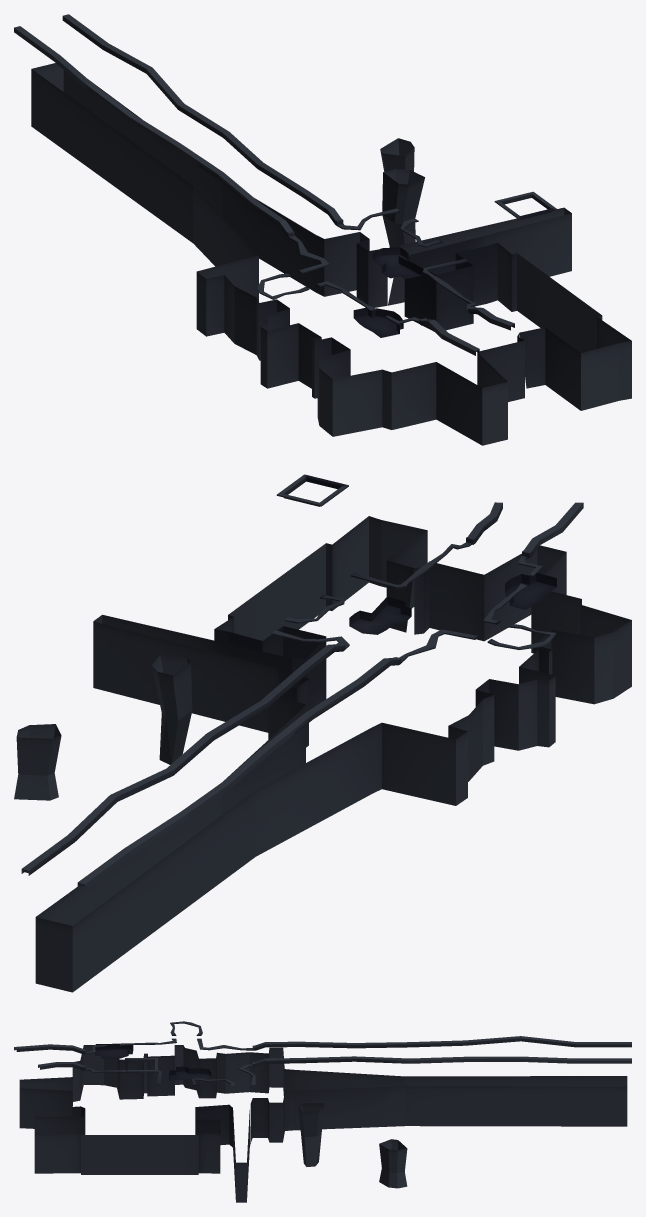
The model's file is Ground_04.FBX.
3 views of the same model, one above another, from view 1: azimuth 30°, elevation 25°; view 2: azimuth 150°, elevation 25°; view 3: azimuth 270°, elevation 25° (orthographic). The views are drawn at different scales.
Parts seen in each view (by area): view 1: Ground_04; view 2: Ground_04; view 3: Ground_04.
Boxes of the visible parts, <box> form: Ground_04: <box>14,14,631,445</box>; Ground_04: <box>14,474,631,992</box>; Ground_04: <box>14,1021,631,1202</box>.
Size of the model in its own units: 32.86 by 12.91 by 72.73.
